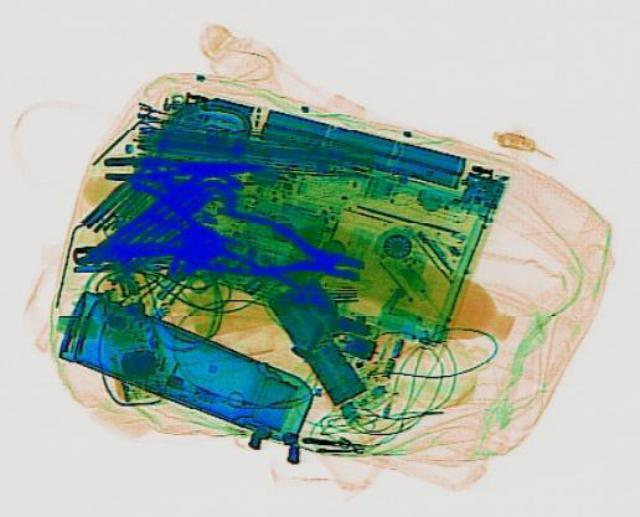Pliers: (188, 202, 370, 299), (102, 154, 246, 179)
